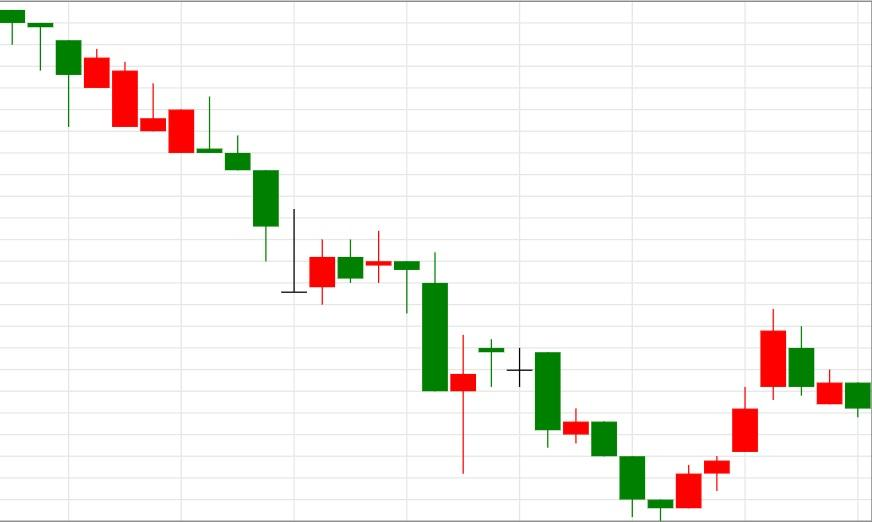morning_star_rise: (534, 351, 702, 522)
